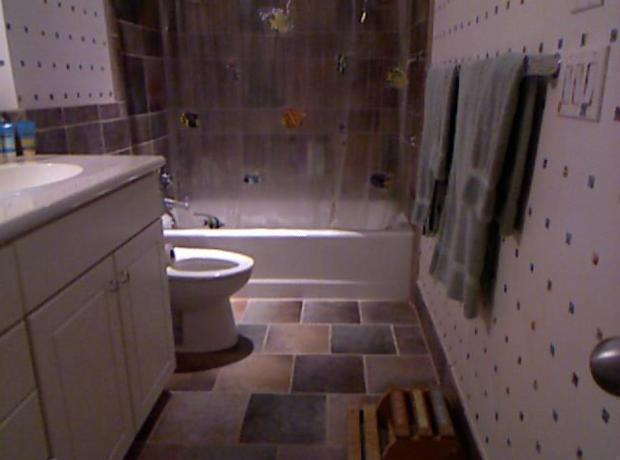Lavamanos: (2, 145, 88, 197)
Sanitario: (81, 192, 254, 361)
